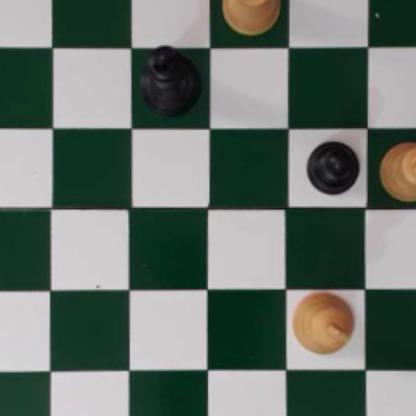black-king: (138, 45, 205, 117)
black-pawn: (304, 138, 359, 195)
white-bishop: (379, 140, 416, 201)
white-king: (288, 288, 356, 356)
white-rook: (218, 0, 280, 32)
